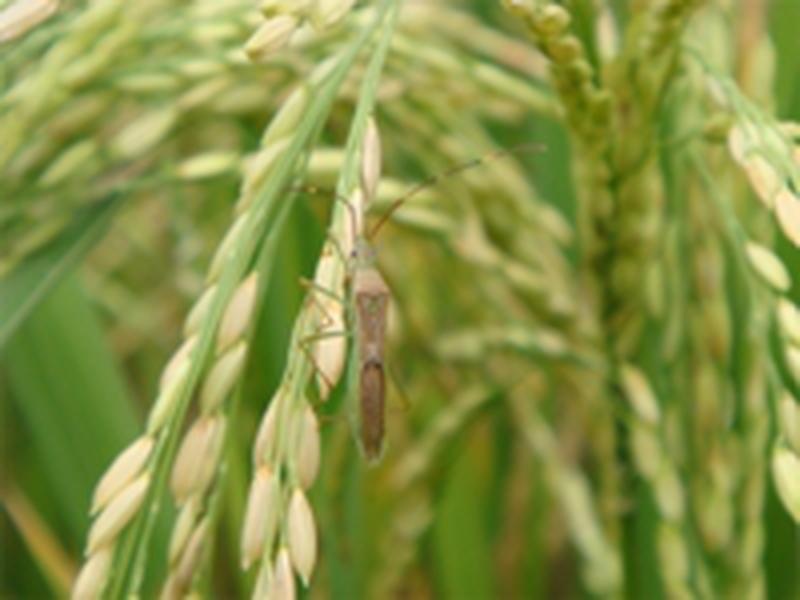Rice_earhead_bug: (265, 243, 450, 474)
